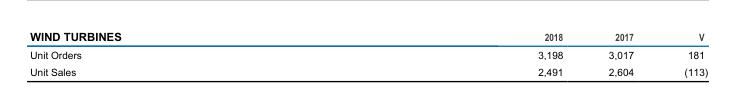table: (29, 29, 707, 77)
table column: (29, 29, 328, 77), (328, 29, 585, 77), (585, 29, 658, 77), (658, 29, 707, 77)
table column header: (29, 29, 707, 45)
table row: (29, 45, 707, 62), (29, 29, 707, 45), (29, 62, 707, 77)
